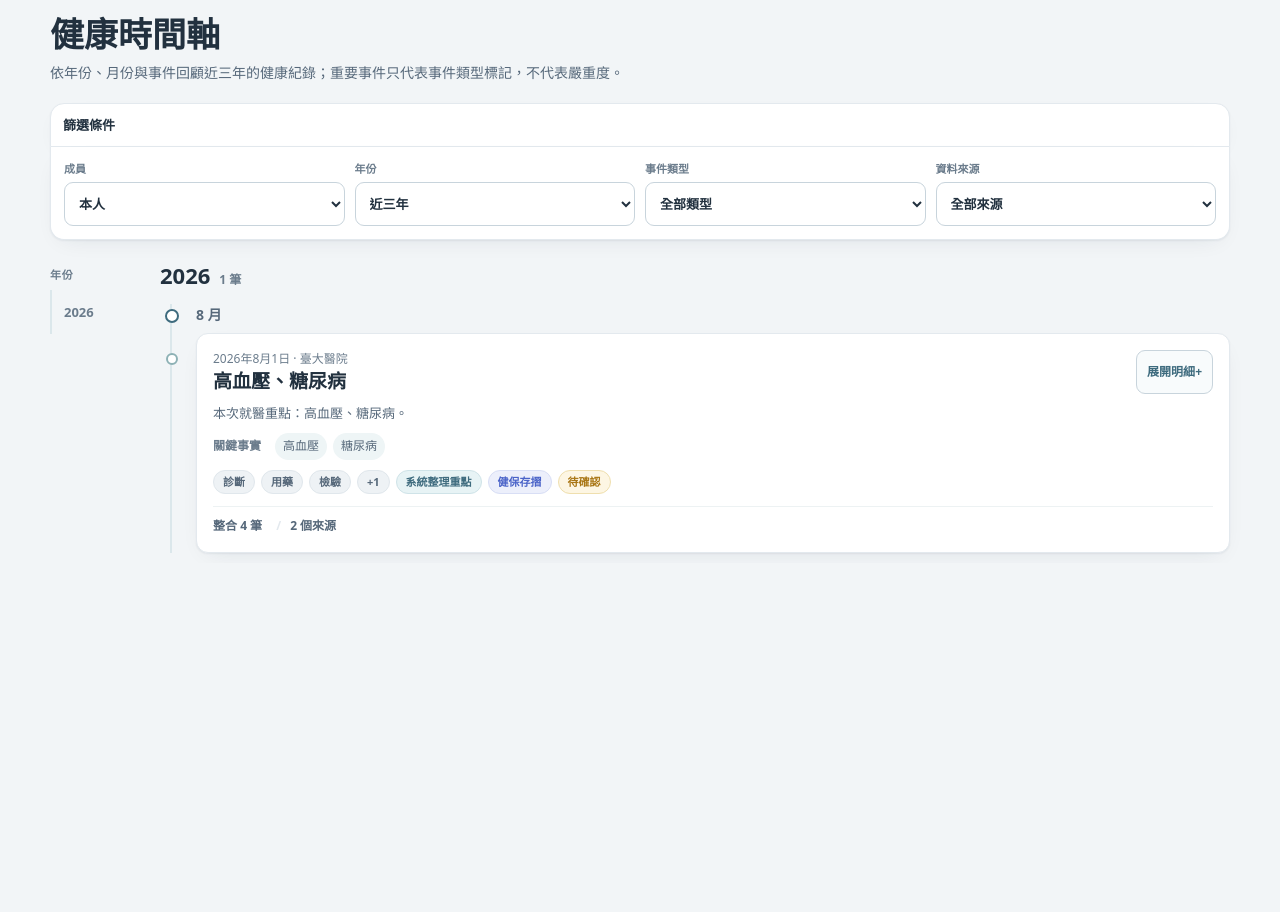
Scenario: HealthTimelinePage member and mobile year behavior › does not expose unknown encounter category or item source codes
The image size is (1280, 912).
Click the button with aria-label "展開 高血壓、糖尿病的明細". click: coordinates (1175, 372)
box: [1136,350,1213,394]
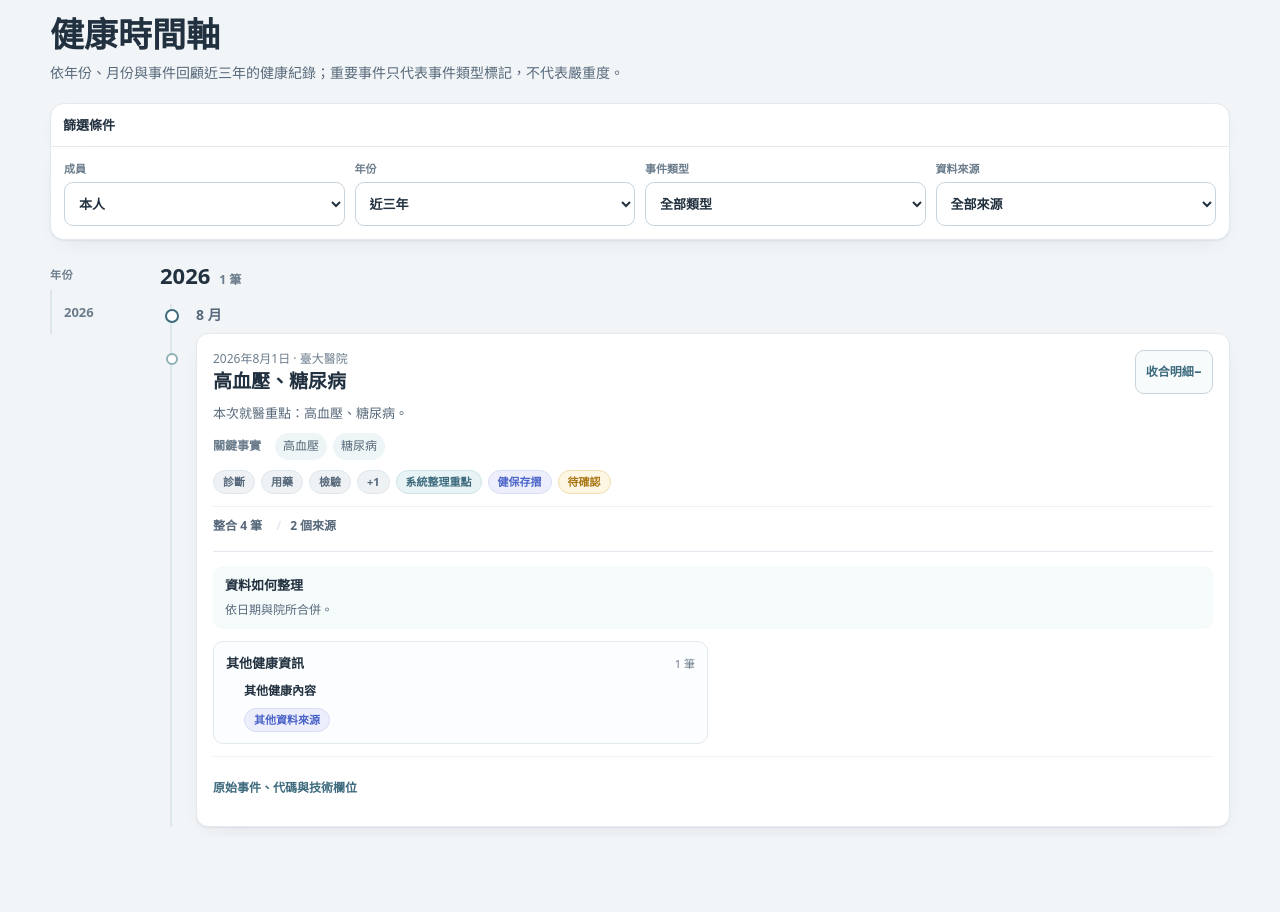
Check: the heading "其他健康資訊" is shown, box [226,653,304,673]
Check: the text "其他資料來源" is shown, box [244,708,330,732]
